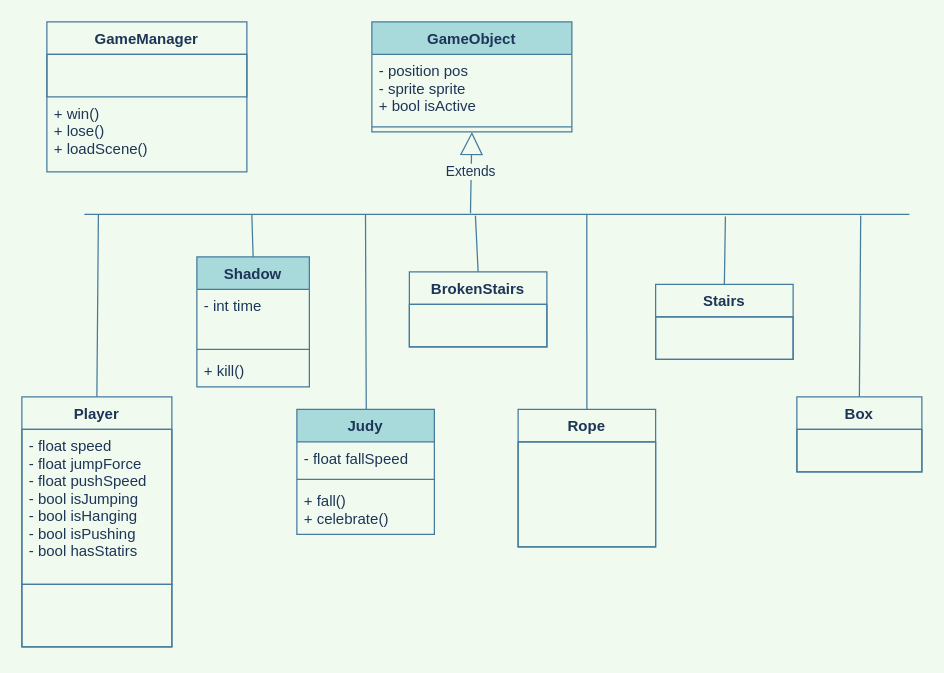
This 944x673 diagram has some shape labels left out. The shapes that lost their labels are listed below. From the top down, each one's centre as x and y in pixels, then its label:
At (146,75): "- int score - float time".
At (723,337): "- bool broken".
At (859,450): "- float weight".
At (586,494): "- float speed - float angle - float length".
At (96,615): "+ jump() + run()".
